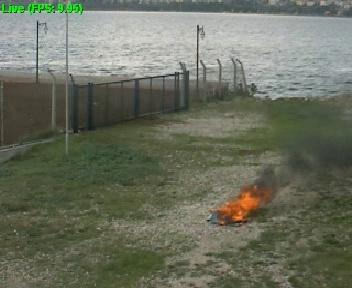fire: (213, 189, 257, 223)
smoke: (285, 115, 346, 157)
